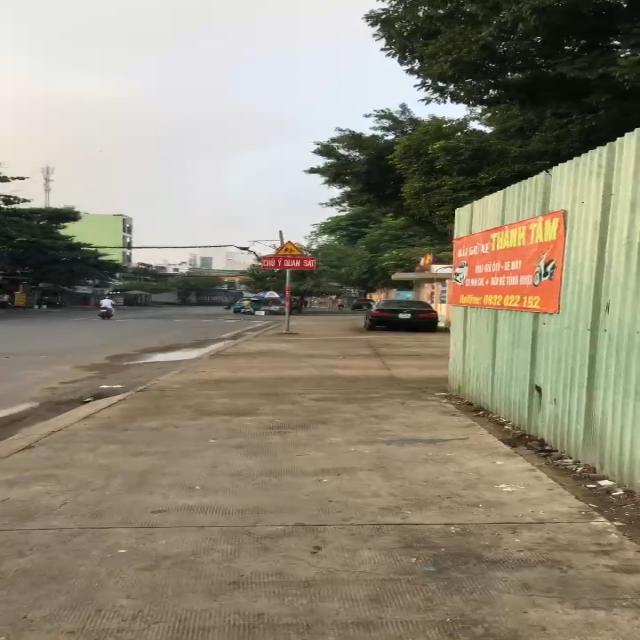Bien bao tre em: (271, 241, 306, 256)
